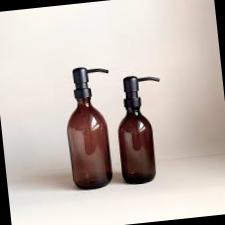glass: (97, 56, 180, 194), (46, 52, 120, 203)
